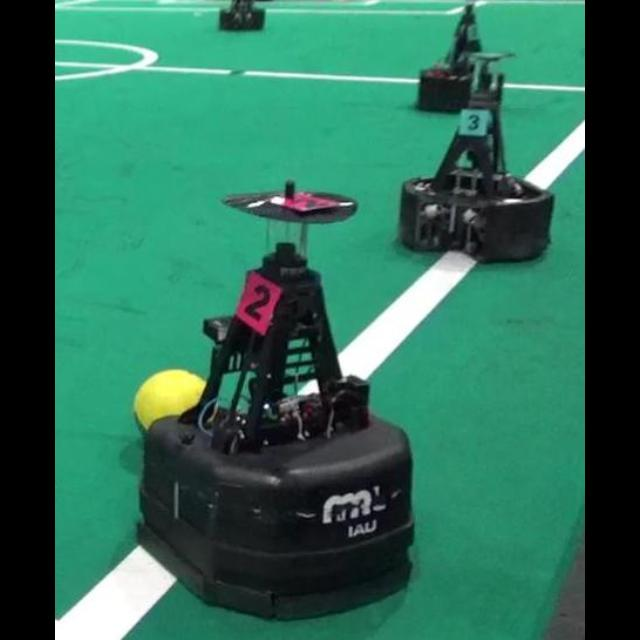ball: (134, 370, 205, 432)
robot: (141, 183, 414, 619), (401, 52, 555, 262), (420, 4, 482, 111), (219, 0, 264, 29)
